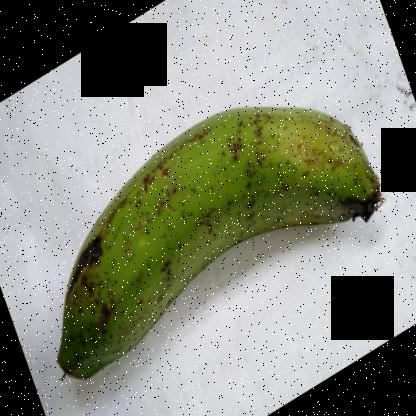rotten: (67, 210, 117, 315)
unripe: (50, 104, 393, 390)
